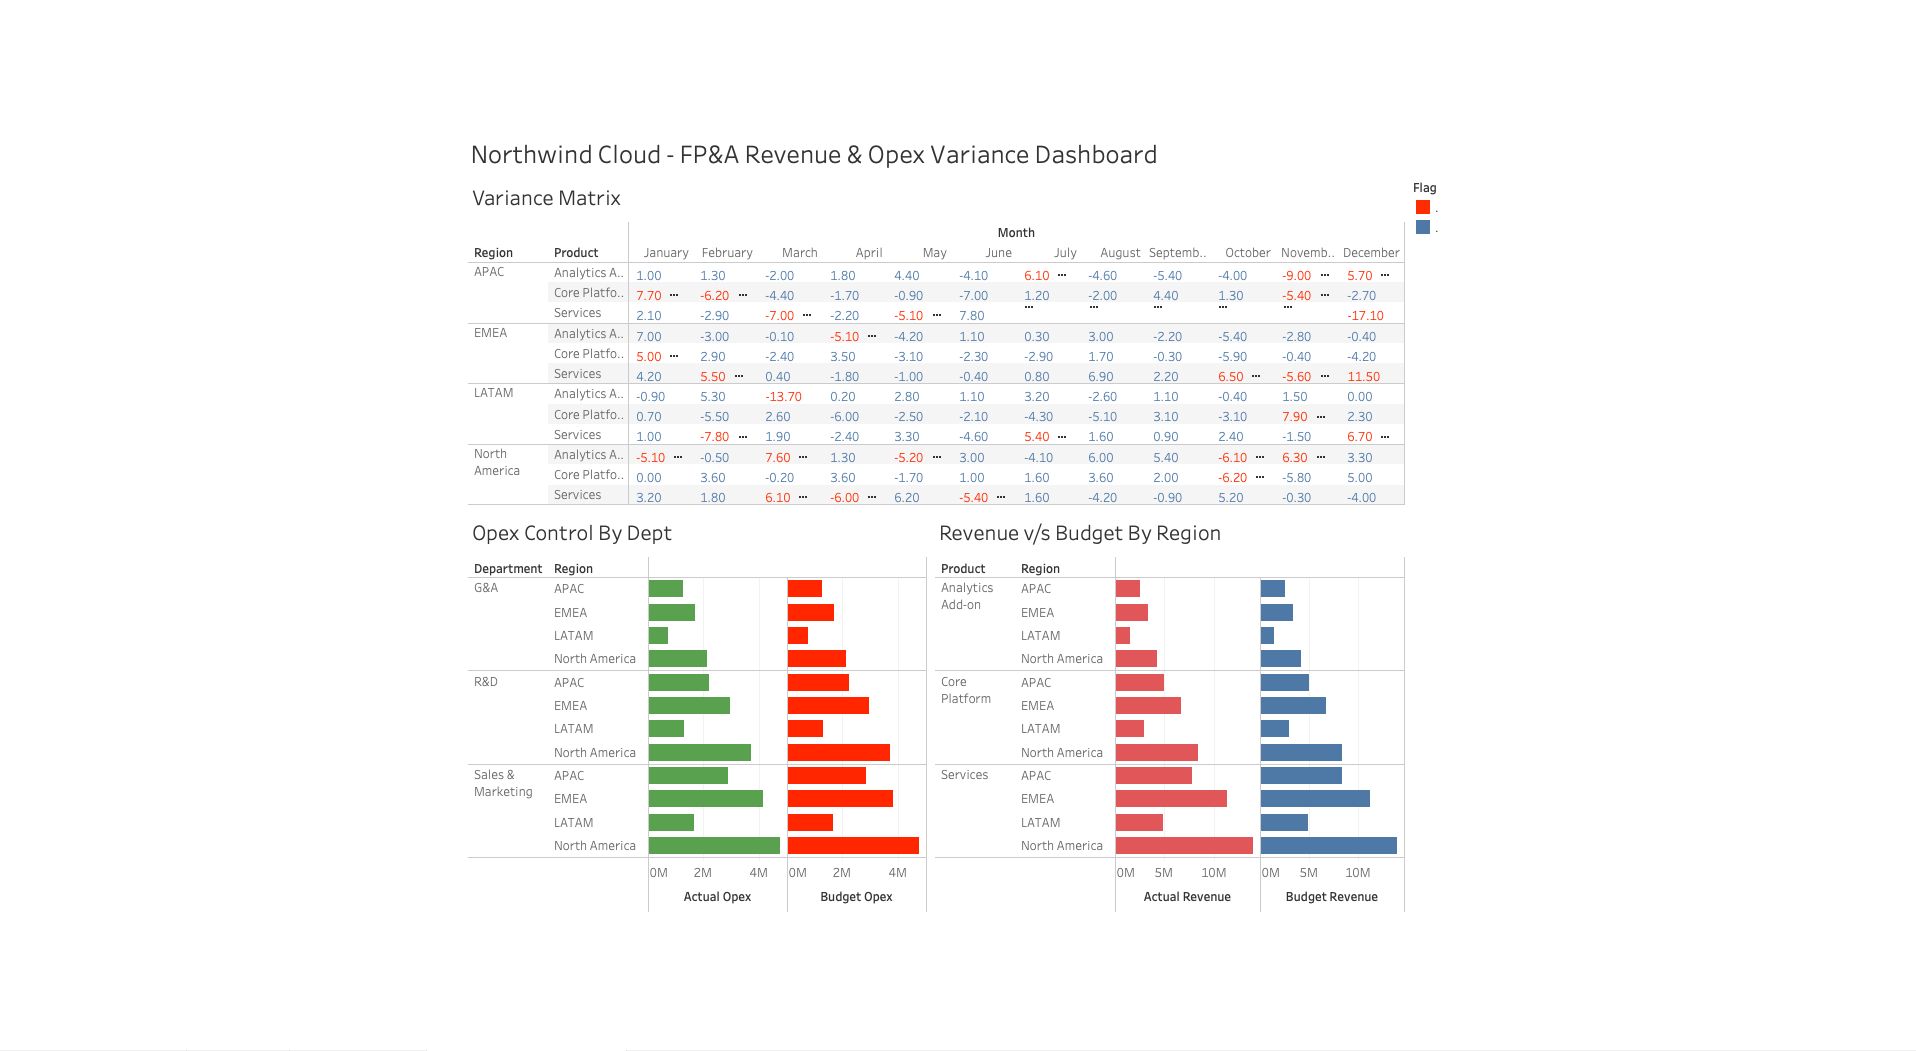

The dashboard page shown, as its layout file describes it:
{"tool":"tableau","page":{"name":"Northwind Cloud - FP&A Revenue & Opex Variance Dashboard ","canvas":[1000,800],"ordinal":0},"visuals":[{"type":"title","box":[8,8,984,42]},{"type":"worksheet","title":"Variance Matrix","mark":"Automatic","rows":["region","product"],"cols":["month"],"box":[8,50,945,335]},{"type":"legend","title":"Variance Matrix","param":"[federated.0zfsqwu0fthh911adig741ijcdez].[none:flag:nk]","box":[953,50,39,66]},{"type":"worksheet","title":"Opex Control By Dept","mark":"Automatic","rows":["department","region"],"cols":["actual_opex","budget_opex"],"box":[8,385,466.5,407]},{"type":"worksheet","title":"Revenue v/s Budget By Region","mark":"Automatic","rows":["product","region"],"cols":["actual_revenue","budget_revenue"],"box":[474.5,385,478.5,407]}]}

Visuals, with their boxes on the page's 1000x800 design canvas (x1, y1, x2, y2). These are canvas units, not pixel positions in the 1916x1051 screenshot, which may show the page scaled, cropped or inside an application window:
title: (left=8, top=8, right=992, bottom=50)
"Variance Matrix" worksheet: (left=8, top=50, right=953, bottom=385)
"Variance Matrix" legend: (left=953, top=50, right=992, bottom=116)
"Opex Control By Dept" worksheet: (left=8, top=385, right=474, bottom=792)
"Revenue v/s Budget By Region" worksheet: (left=474, top=385, right=953, bottom=792)
